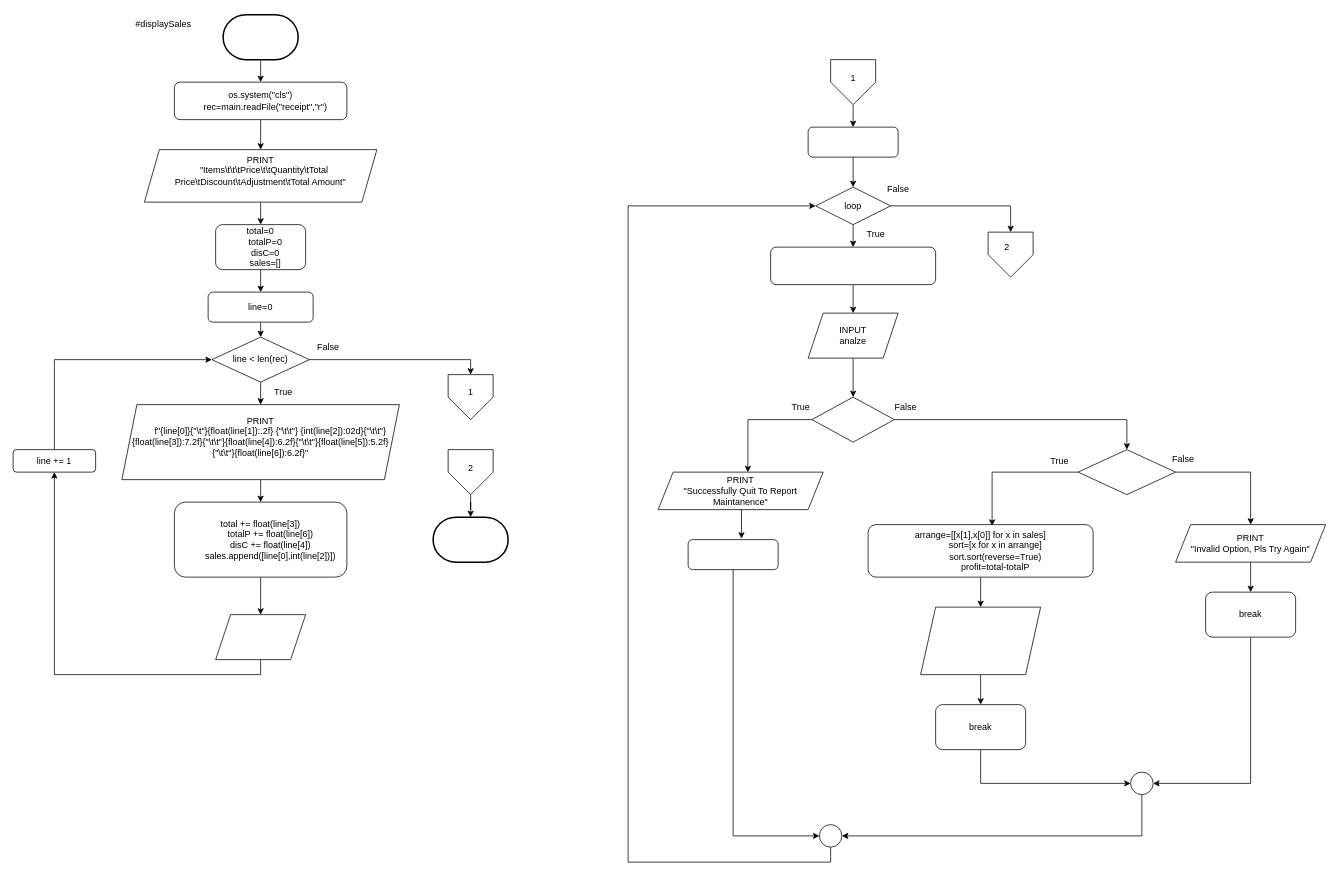
The diagram is 1339 pixels wide and 881 high, and some of its shapes have lost their labels. Here are the shapes that lost their labels. From the top down, the centre of each, then its label:
(x=260, y=37): START
(x=852, y=141): loop=True
(x=853, y=265): recf=main.readFile("assfile","r")
(x=852, y=419): analyze == "Q"
(x=1126, y=472): analyze == "A"
(x=470, y=539): END
(x=732, y=554): loop=False
(x=260, y=637): PRINT totalP
(x=980, y=640): PRINT sort[0][1], sort[0][0], sort[-1][1],sort[-1][0], disC, profit
